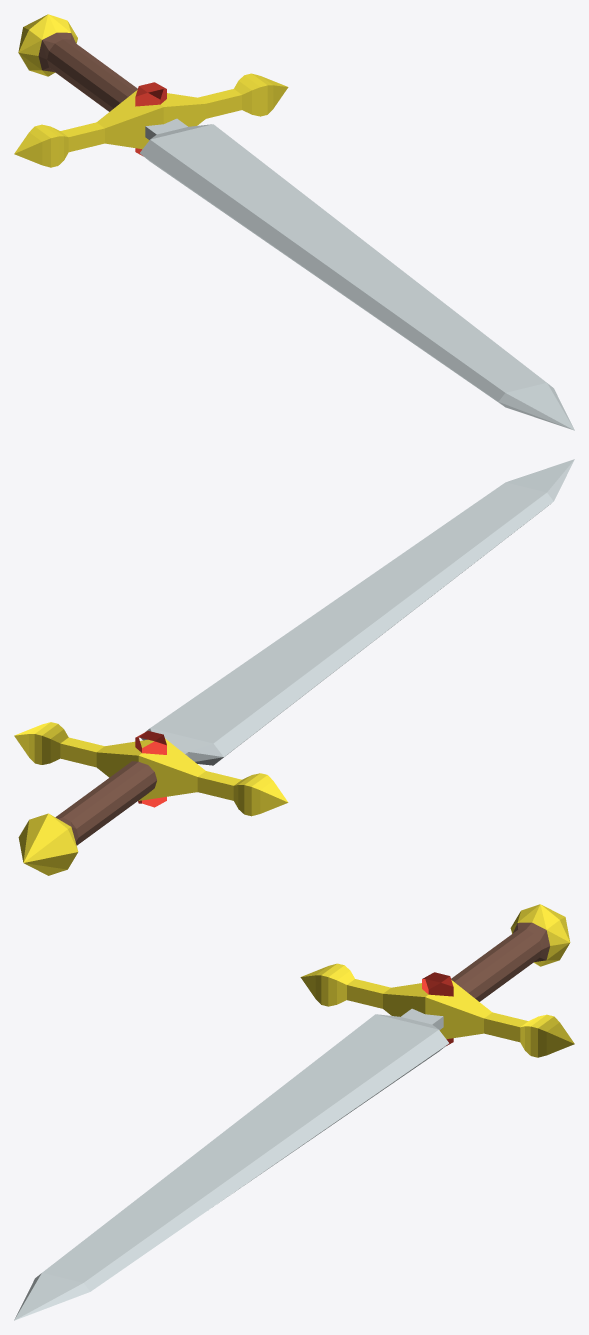
The model's file is Sword.glb.
The picture shows the model from 3 angles, top to bottom: view 1: azimuth 30°, elevation 25°; view 2: azimuth 150°, elevation 25°; view 3: azimuth 330°, elevation 25°; orthographic projection.
Visible parts, largest first — view 1: group306679369; view 2: group306679369; view 3: group306679369.
Boxes of the visible parts, left/top/right/bottom form: group306679369: left=14, top=14, right=574, bottom=430; group306679369: left=14, top=459, right=574, bottom=875; group306679369: left=14, top=904, right=574, bottom=1320.
Size of the model in its own units: 0.6686 by 0.1543 by 2.33.
